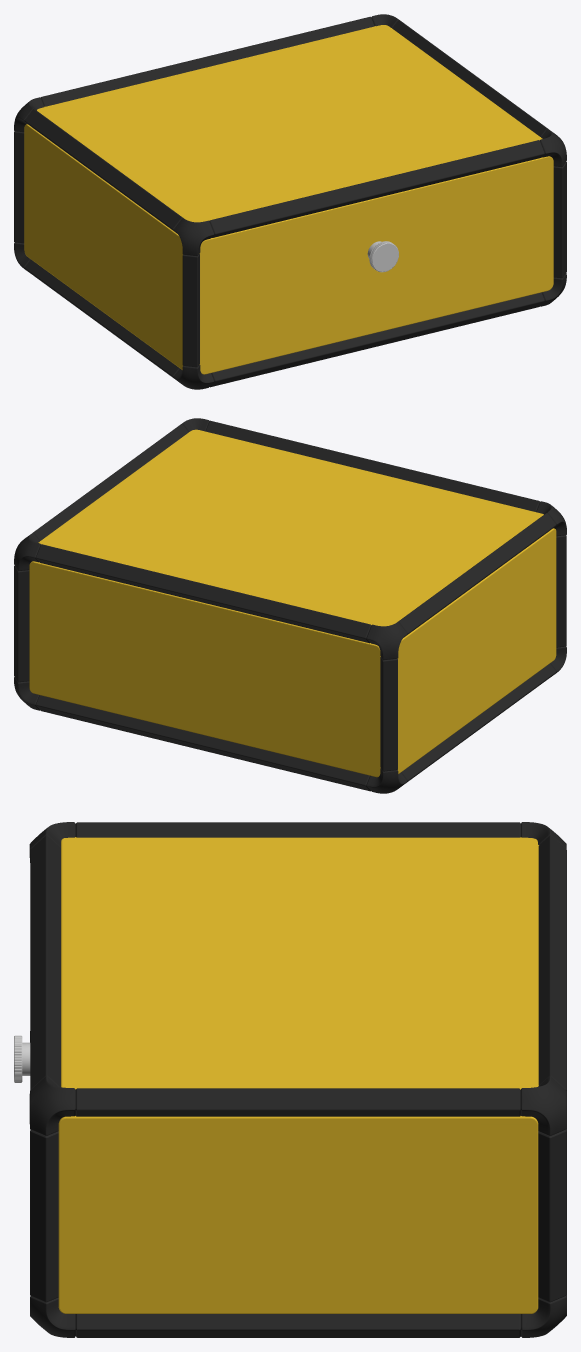
The picture shows the model from 3 angles, top to bottom: view 1: azimuth 30°, elevation 25°; view 2: azimuth 150°, elevation 25°; view 3: azimuth 270°, elevation 25°; orthographic projection. The views are drawn at different scales.
Parts seen in each view (by area): view 1: 479x374x154; view 2: 479x374x154; view 3: 479x374x154.
Boxes of the visible parts, x1=… form: 479x374x154: x1=14, y1=14, x2=566, y2=389; 479x374x154: x1=14, y1=418, x2=566, y2=793; 479x374x154: x1=14, y1=822, x2=566, y2=1337.
Bounding box in the file's own units: 0.5567 × 0.2316 × 0.4646.
